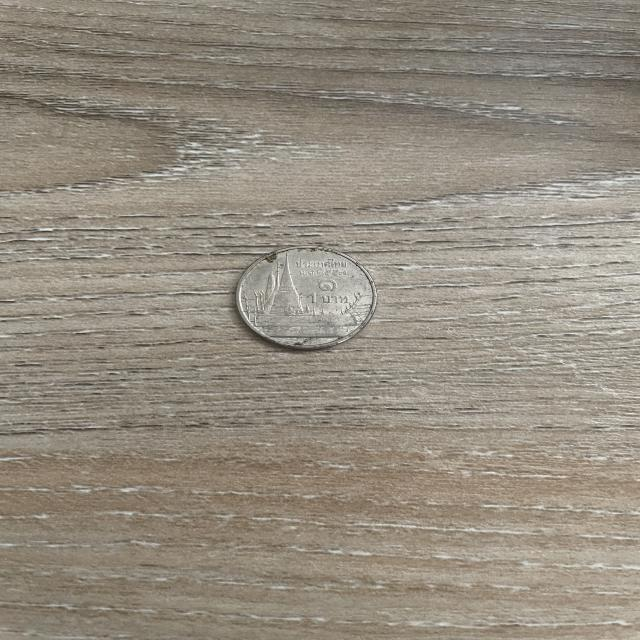1 Bath: (232, 238, 388, 359)
